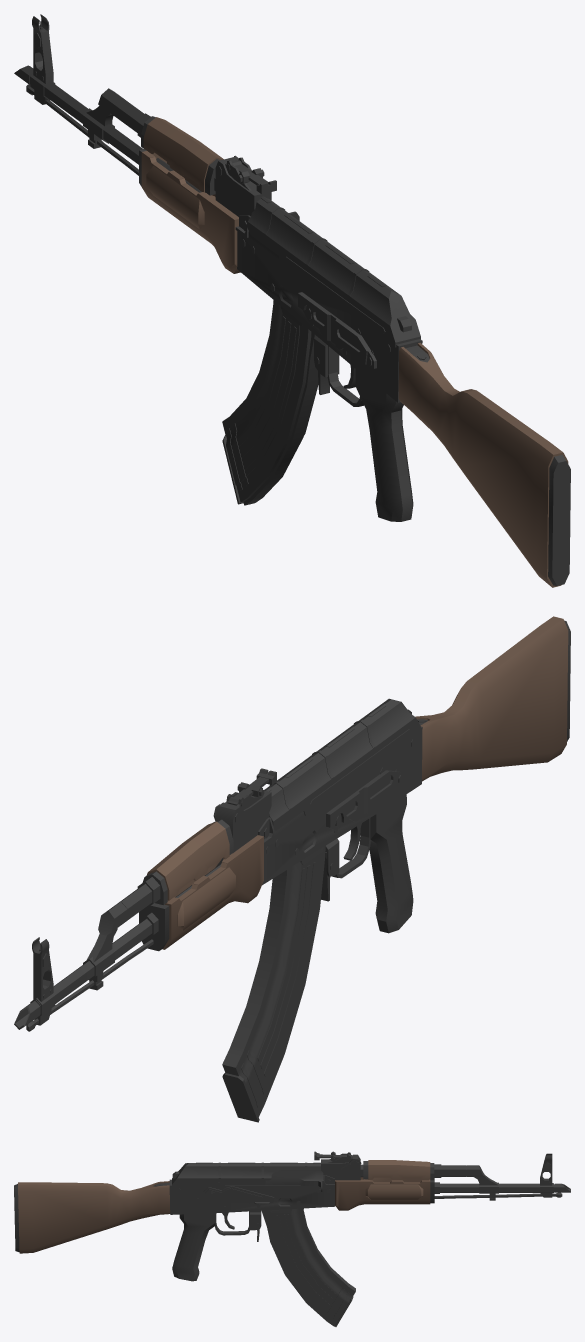
Rendered from gun_akm.glb.
The picture shows the model from 3 angles, top to bottom: view 1: azimuth 30°, elevation 25°; view 2: azimuth 150°, elevation 25°; view 3: azimuth 270°, elevation 25°; orthographic projection. The views are drawn at different scales.
Visible parts, largest first — view 1: body, mag; view 2: body, mag; view 3: body, mag, bolt.
Part boxes in pixels (box(x1,y1,x2,y2)): body: box(14, 14, 570, 587); mag: box(222, 300, 329, 505); body: box(14, 616, 570, 1031); mag: box(222, 846, 330, 1122); body: box(14, 1151, 570, 1281); mag: box(257, 1208, 355, 1326); bolt: box(265, 1170, 323, 1191).
Size of the model in its own units: 0.059 by 0.3408 by 1.
